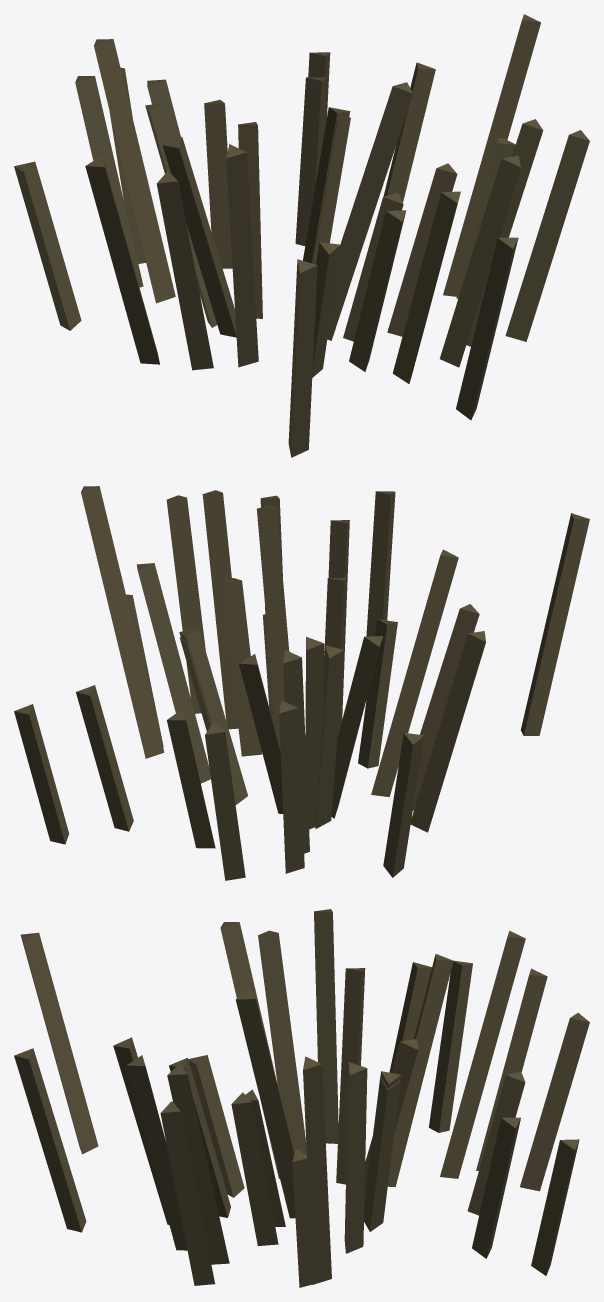
File: lb_tuft_B.fbx
3 renders of one model, top to bottom at view 1: azimuth 30°, elevation 25°; view 2: azimuth 150°, elevation 25°; view 3: azimuth 270°, elevation 25°, orthographic. The views are drawn at different scales.
Parts seen in each view (by area): view 1: lb_tuft_B_export; view 2: lb_tuft_B_export; view 3: lb_tuft_B_export.
Boxes of the visible parts, x1=… form: lb_tuft_B_export: x1=14, y1=14, x2=589, y2=457; lb_tuft_B_export: x1=14, y1=486, x2=589, y2=880; lb_tuft_B_export: x1=14, y1=909, x2=589, y2=1287.
Bounding box in the file's own units: 24.1 × 13.9 × 28.51.
